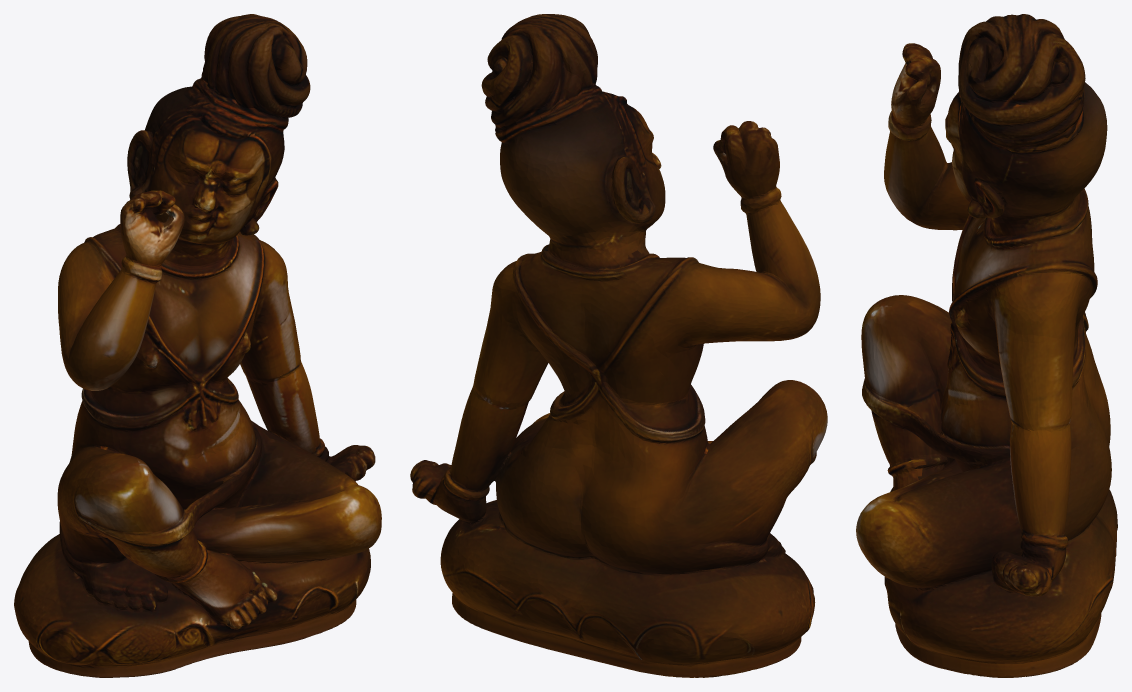
3 views of the same model, side by side, from view 1: azimuth 30°, elevation 25°; view 2: azimuth 150°, elevation 25°; view 3: azimuth 270°, elevation 25° (orthographic). The views are drawn at different scales.
Visible parts, largest first — view 1: textured_mesh; view 2: textured_mesh; view 3: textured_mesh.
Boxes of the visible parts, x1,y1,x2,y2 form: textured_mesh: (14, 14, 381, 677); textured_mesh: (410, 14, 827, 677); textured_mesh: (856, 14, 1117, 677).
Bounding box in the file's own units: 1.32 × 1.99 × 0.7702.
1 material, 1 textured.
